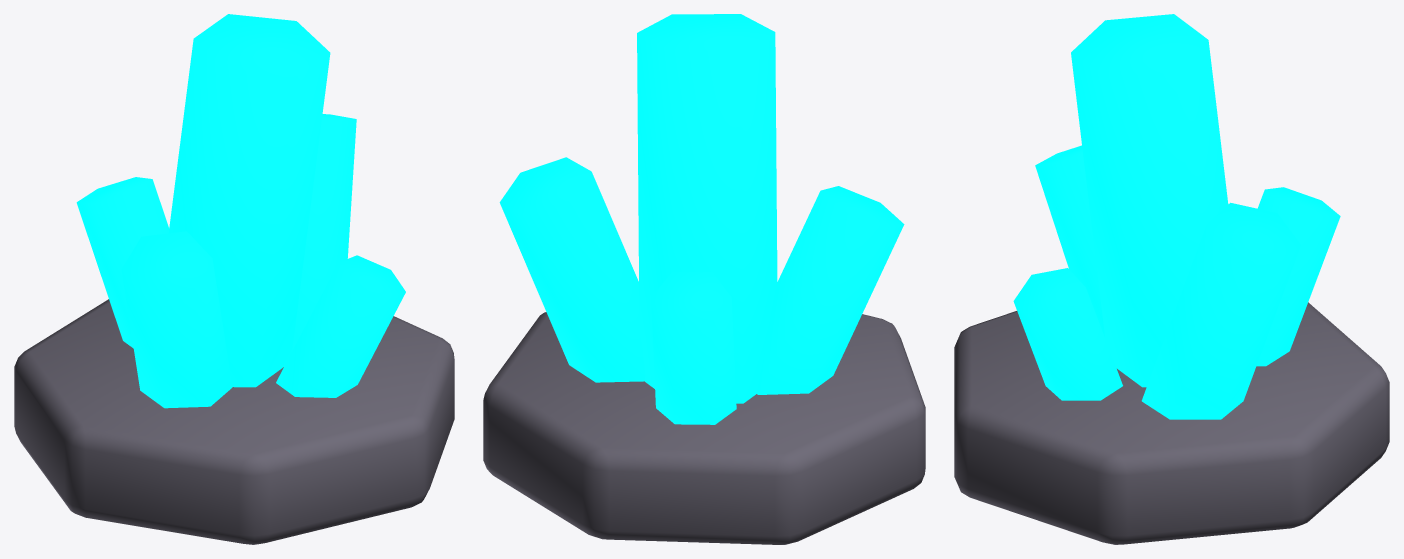
Rendered from prop-crystal.glb.
The picture shows the model from 3 angles, left to right: view 1: azimuth 30°, elevation 25°; view 2: azimuth 150°, elevation 25°; view 3: azimuth 270°, elevation 25°; orthographic projection.
Visible parts, largest first — view 1: PropCrystal; view 2: PropCrystal; view 3: PropCrystal.
Part boxes in pixels (left/top/right/bottom): PropCrystal: left=14, top=14, right=454, bottom=544; PropCrystal: left=483, top=14, right=925, bottom=544; PropCrystal: left=954, top=14, right=1389, bottom=544.
Size of the model in its own units: 1.54 by 1.63 by 1.51.
